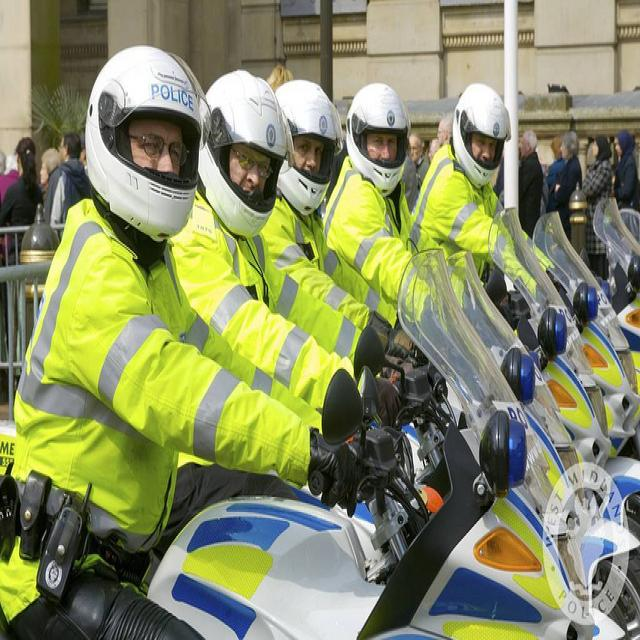motor: (149, 240, 627, 640), (447, 258, 639, 564), (485, 205, 638, 479), (531, 210, 640, 456), (592, 191, 640, 309)
